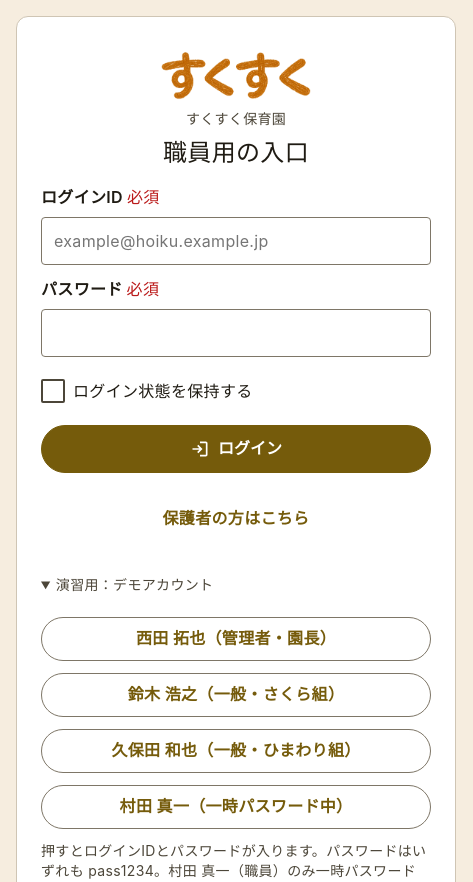
Test: 演習用：デモアカウント › 職員用トップの下に職員のアカウントが並び、押すとログインIDとパスワードが入る
Expected: the heading "演習用：デモアカウント" is shown, [56,576,213,593]
Click the button "西田 拓也（管理者・園長）": coordinates (236, 639) [41,617,431,661]
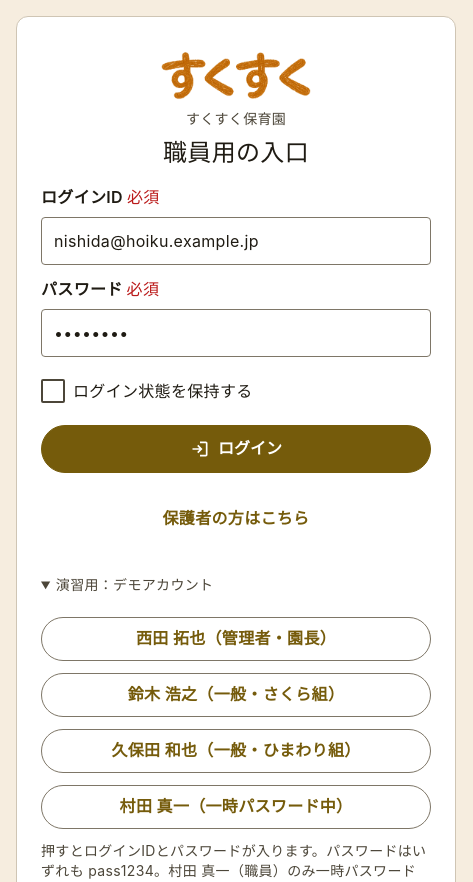
Expected: the field labelled "ログインID" holds "nishida@hoiku.example.jp", [41,217,431,265]
Expected: the password field labelled "パスワード" holds "pass1234", [41,309,431,357]
一時パスワード中のアカウントだけ、パスワードが違う
Click the button "村田 真一（一時パスワード中）": coordinates (236, 807) [41,785,431,829]
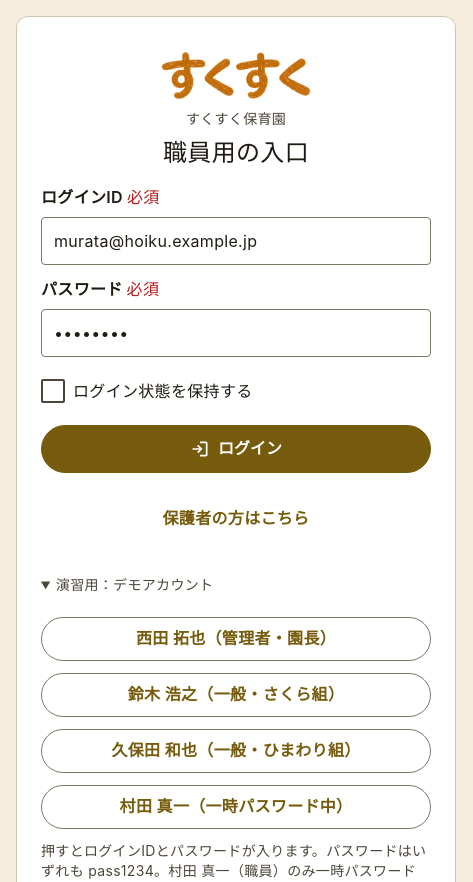
Expected: the password field labelled "パスワード" holds "temp0901", [41,309,431,357]
Expected: the field labelled "ログインID" holds "murata@hoiku.example.jp", [41,217,431,265]
